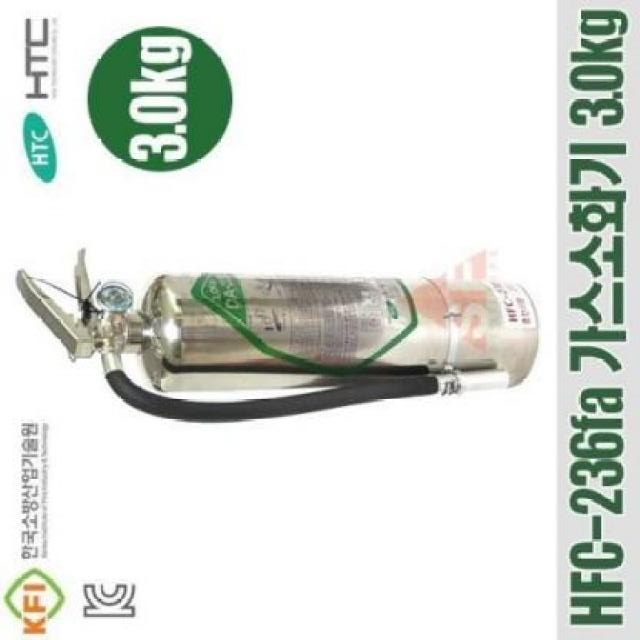fire extinguisher: (15, 249, 540, 423)
